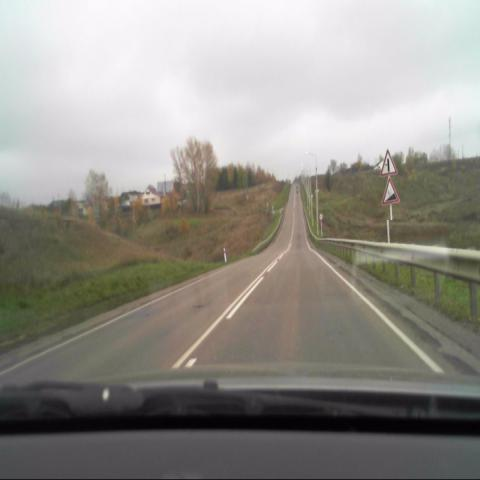1_14: (380, 176, 399, 205)
